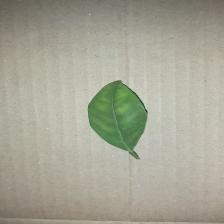greening: (84, 79, 151, 162)
